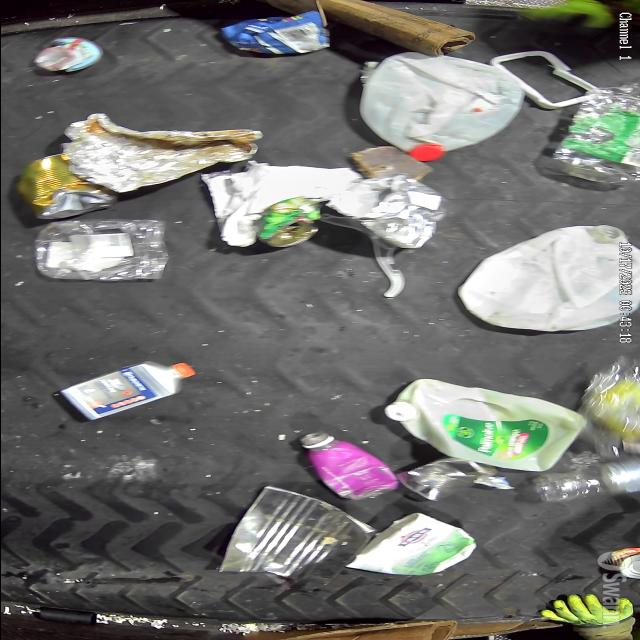can: (215, 486, 373, 588), (324, 175, 446, 249), (17, 152, 116, 220), (397, 459, 482, 502), (258, 197, 322, 249), (30, 36, 104, 76), (610, 547, 640, 579)
milk_jug: (457, 226, 638, 334), (384, 378, 582, 472), (360, 54, 524, 160)
plastic_bottle: (548, 83, 640, 191), (534, 460, 640, 502)
